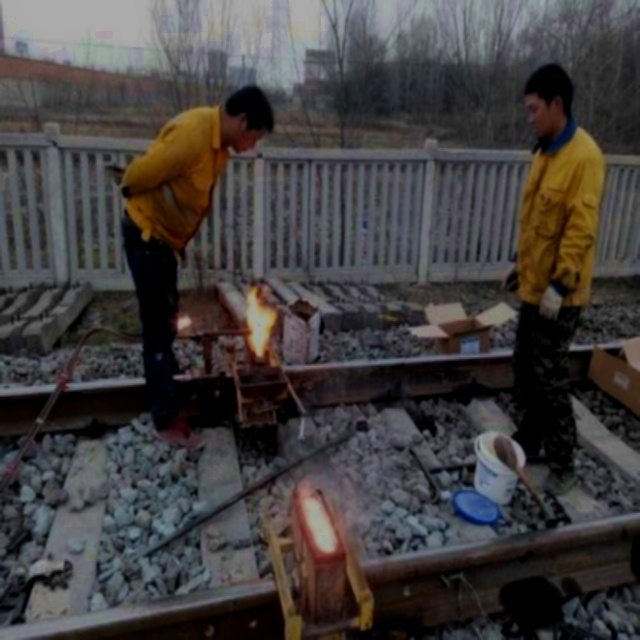Sin_Casco_Mascarrilla: (520, 63, 575, 134), (221, 84, 272, 151)
